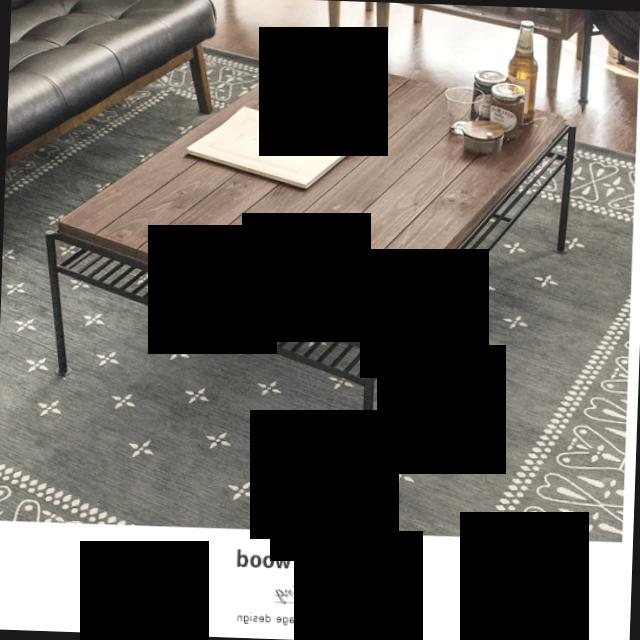vintage desk: (41, 44, 594, 503)
